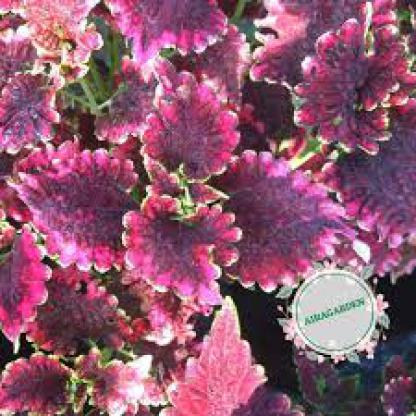Bunga Coleus: (18, 7, 275, 388), (286, 30, 386, 260)
